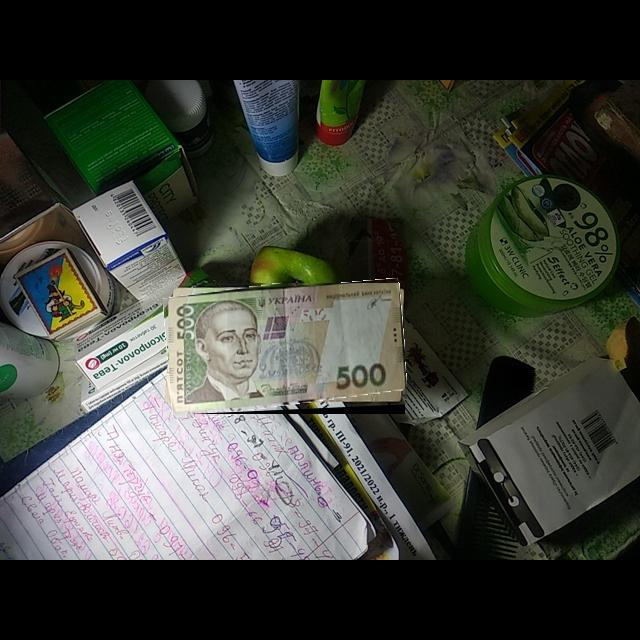500uah: (166, 283, 406, 415)
